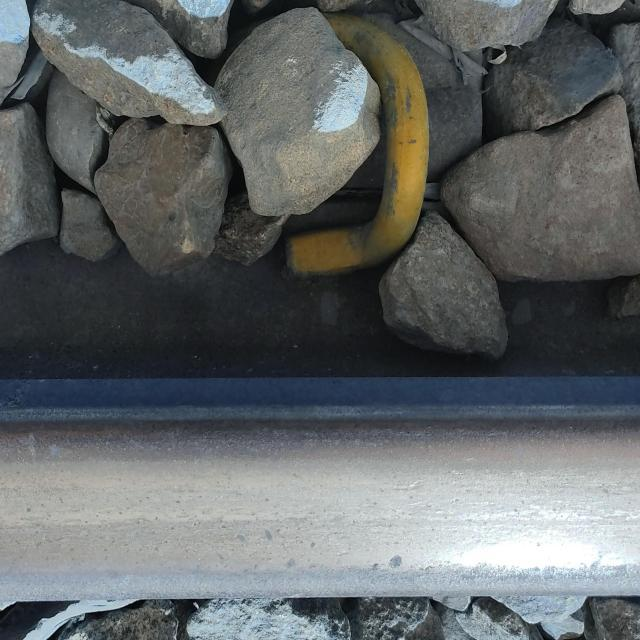Good Fasteners: (286, 14, 481, 276)
